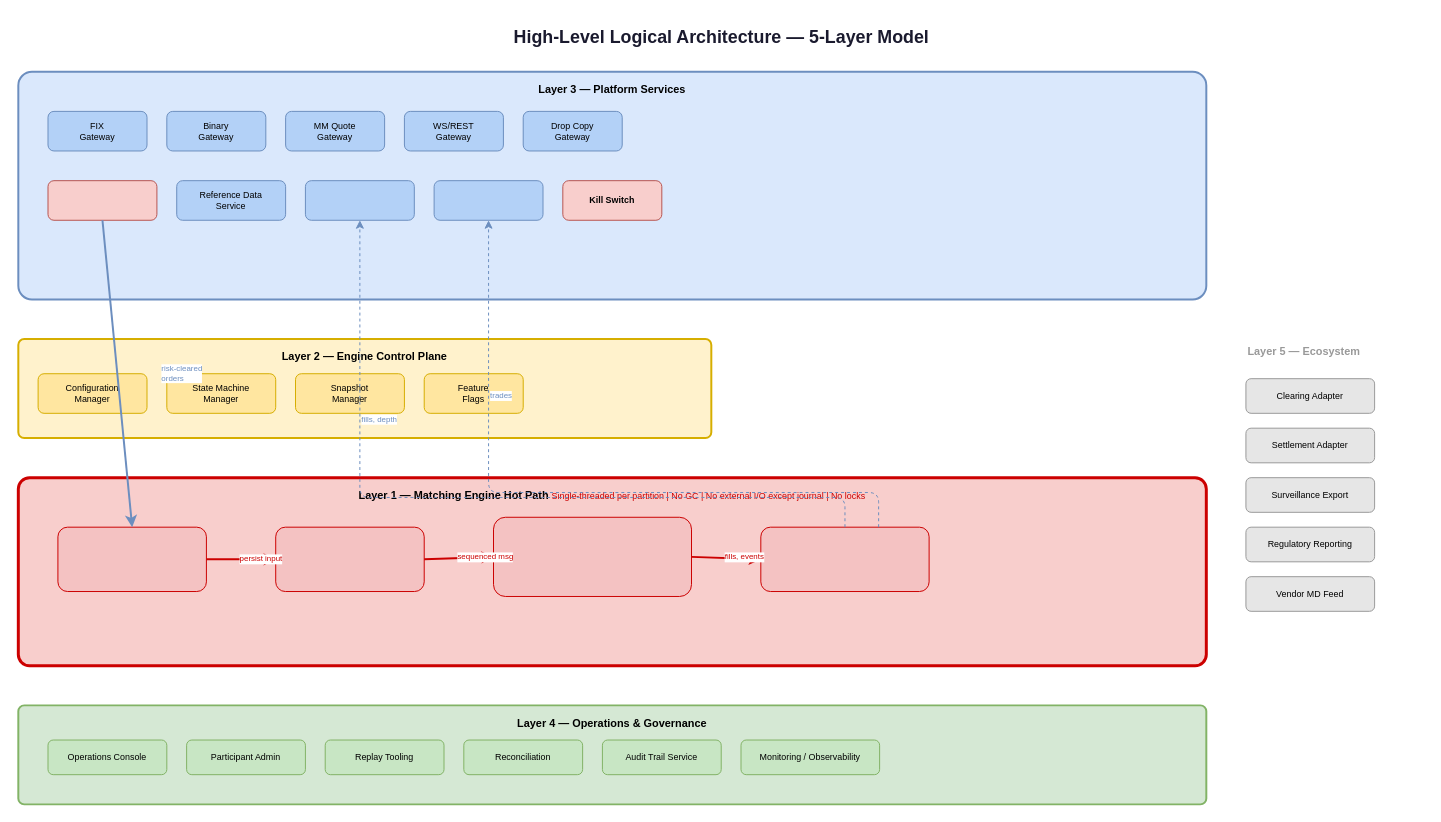
Some shapes in this 1441 by 822 pixel diagram are drawn without their labels. Here are the shapes that lost their labels. From the top down, the centre of each, then its label:
At pixel 102 200: "Pre-Trade Risk Service".
At pixel 359 200: "Market Data Publisher".
At pixel 488 200: "Post-Trade Service".
At pixel 131 559: "Sequencer Partition-local seq# + PTP timestamp".
At pixel 349 559: "Journal / WAL Append-only NVMe fsync (Reg-Grade)".
At pixel 592 556: "Matching Engine Partition Validate → Match → Book 1..N books per partition".
At pixel 844 559: "Output Bus Lock-free ring buffer (Aeron / Disruptor)".
